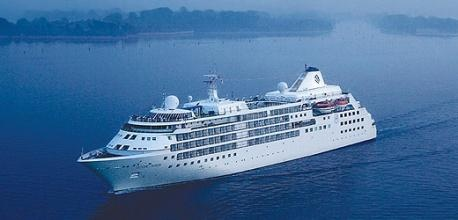youlun: (76, 65, 379, 195)
